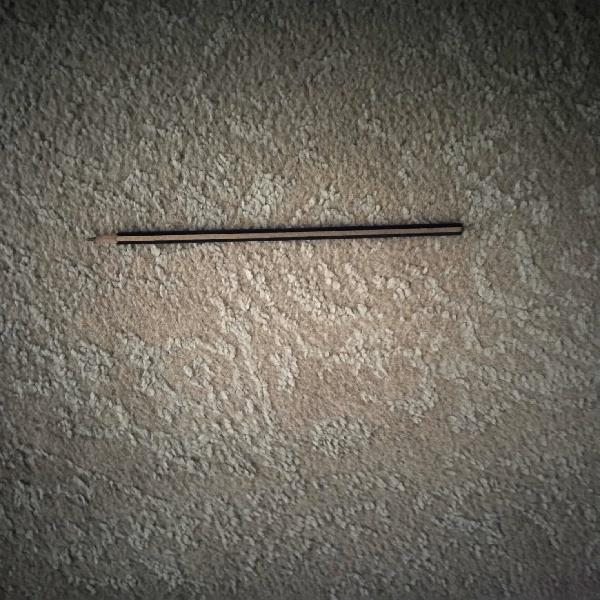pencil: (90, 223, 463, 244)
